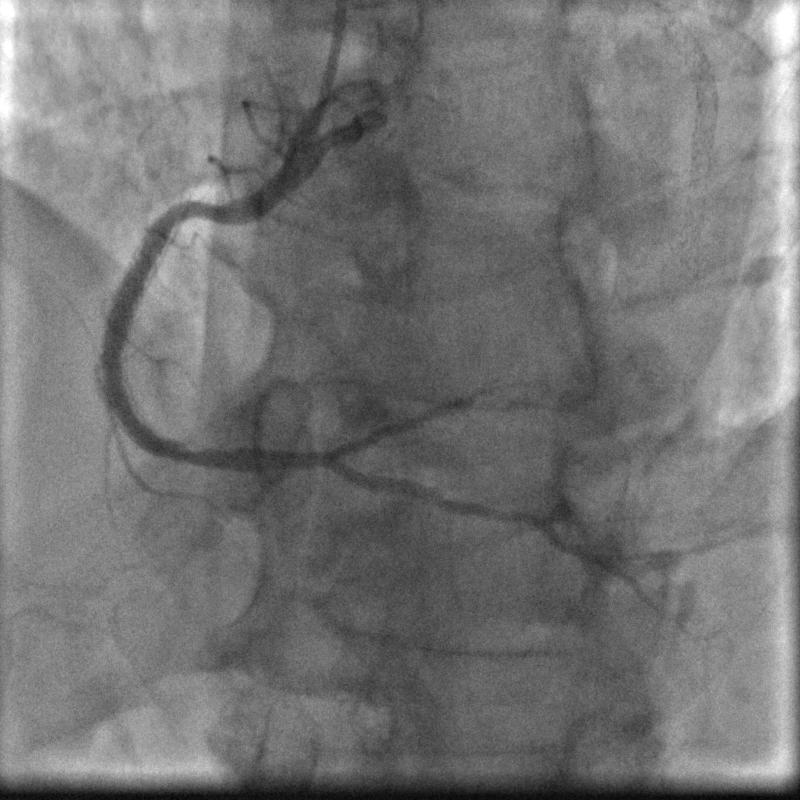Stenosis: (186, 191, 227, 236)
